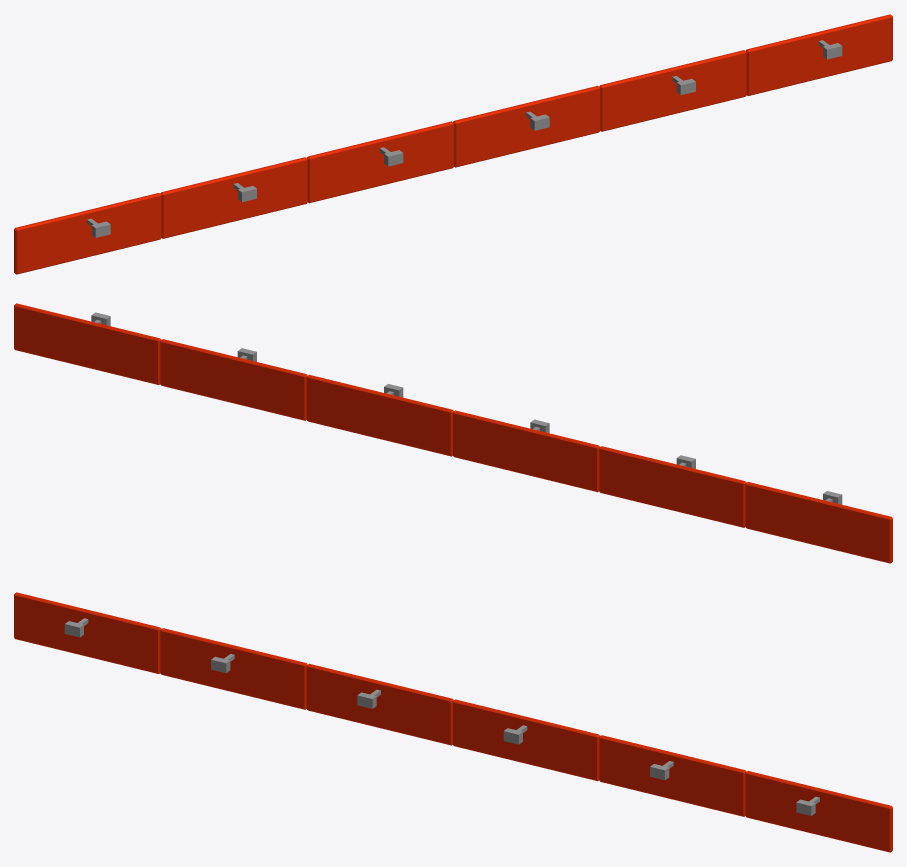
File: RailWide6m.fbx
3 renders of one model, top to bottom at view 1: azimuth 30°, elevation 25°; view 2: azimuth 150°, elevation 25°; view 3: azimuth 330°, elevation 25°, orthographic.
Visible parts, largest first — view 1: RailWide6m; view 2: RailWide6m; view 3: RailWide6m.
Part boxes in pixels (x1=…): RailWide6m: x1=14, y1=14, x2=892, y2=274; RailWide6m: x1=14, y1=303, x2=892, y2=563; RailWide6m: x1=14, y1=592, x2=892, y2=852.
Size of the model in its own units: 600 by 30 by 20.
